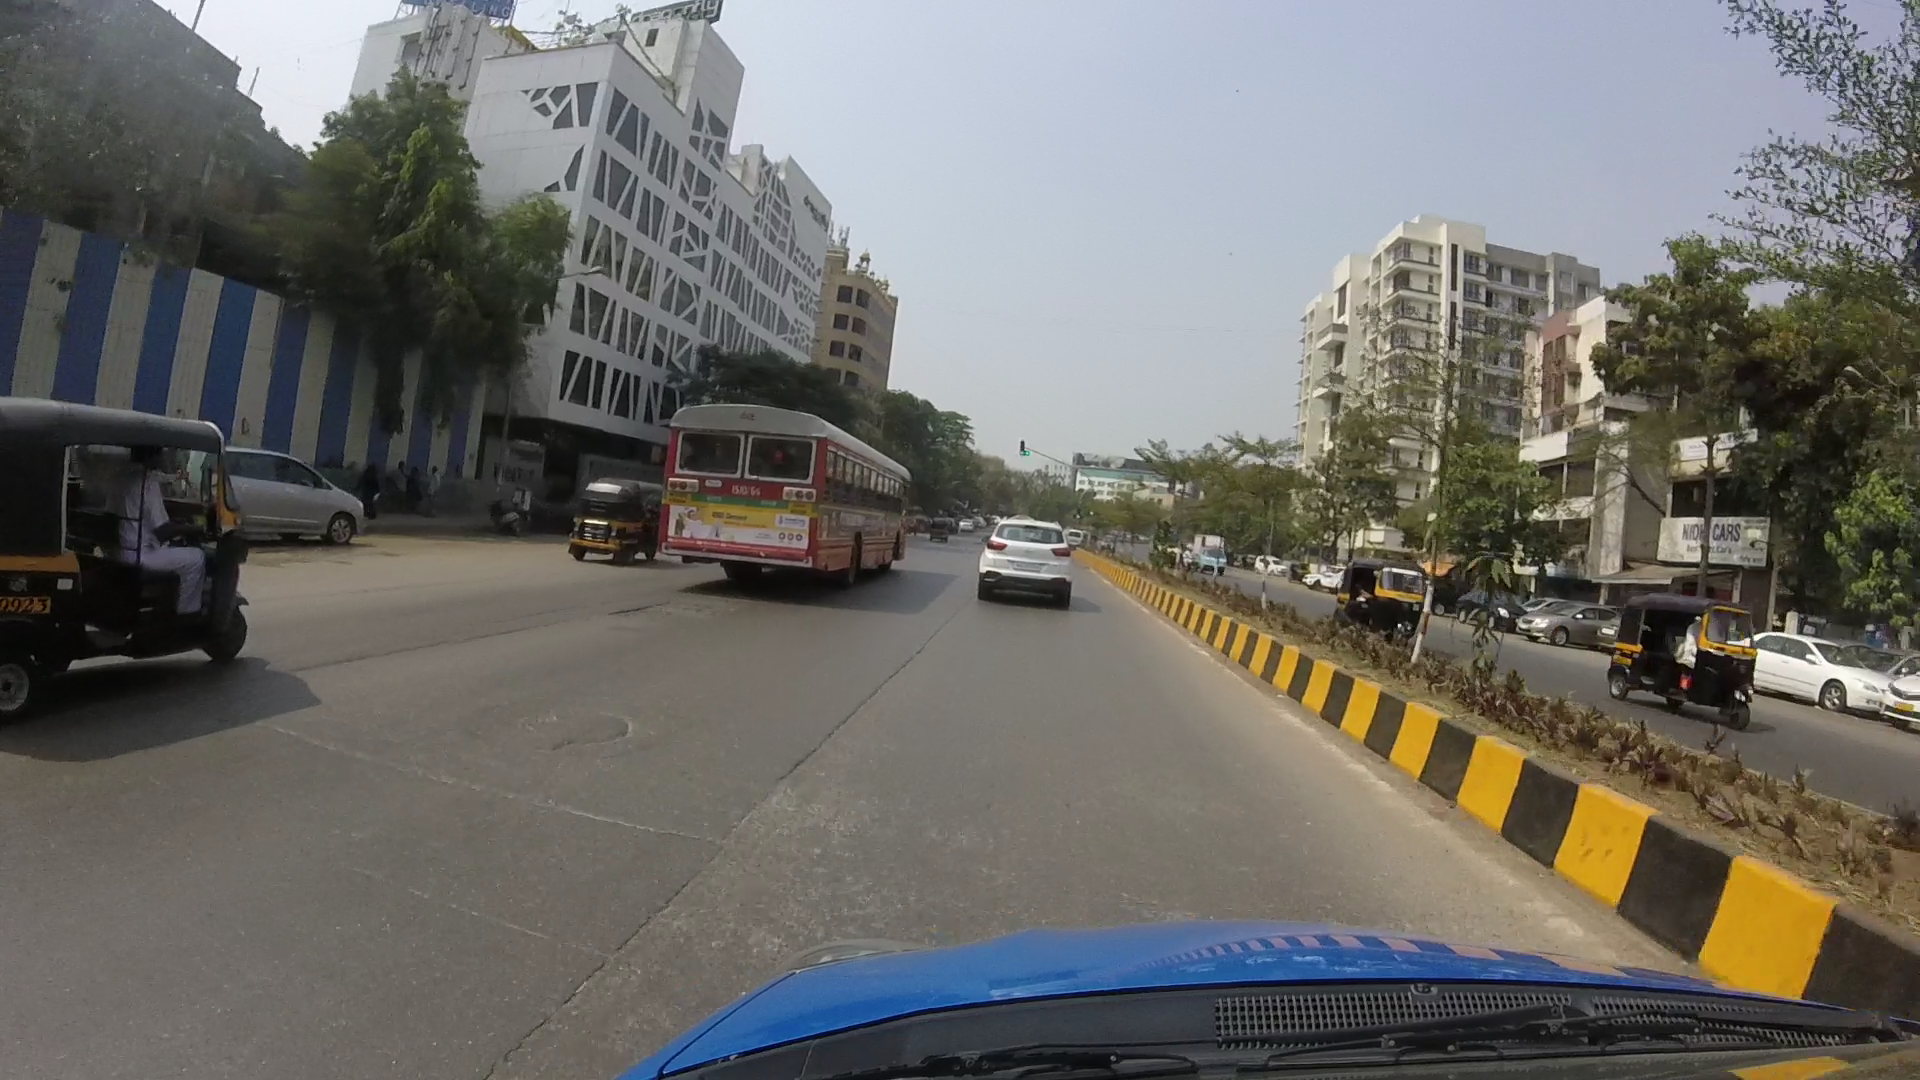bus: (663, 401, 916, 583)
car: (211, 458, 357, 539), (1753, 636, 1875, 709), (975, 516, 1063, 611)
rickshaw: (11, 398, 258, 692), (1605, 585, 1763, 731), (572, 477, 663, 563), (1342, 551, 1408, 640)
